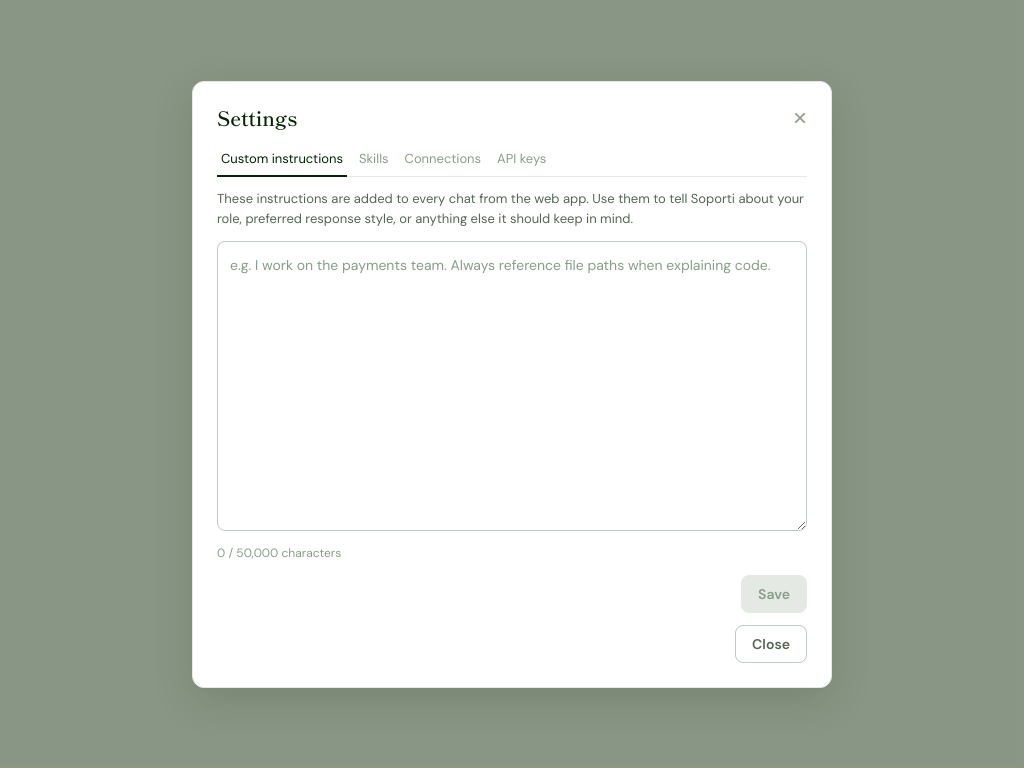
Scenario: SettingsModal › switches to the API keys tab and forwards the selected sources
This screenshot has width=1024, height=768.
Expected: the text box with placeholder "payments team" is shown, x1=217 y1=240 x2=807 y2=530
Click the tab "API keys": (522, 159) x1=493 y1=142 x2=550 y2=176
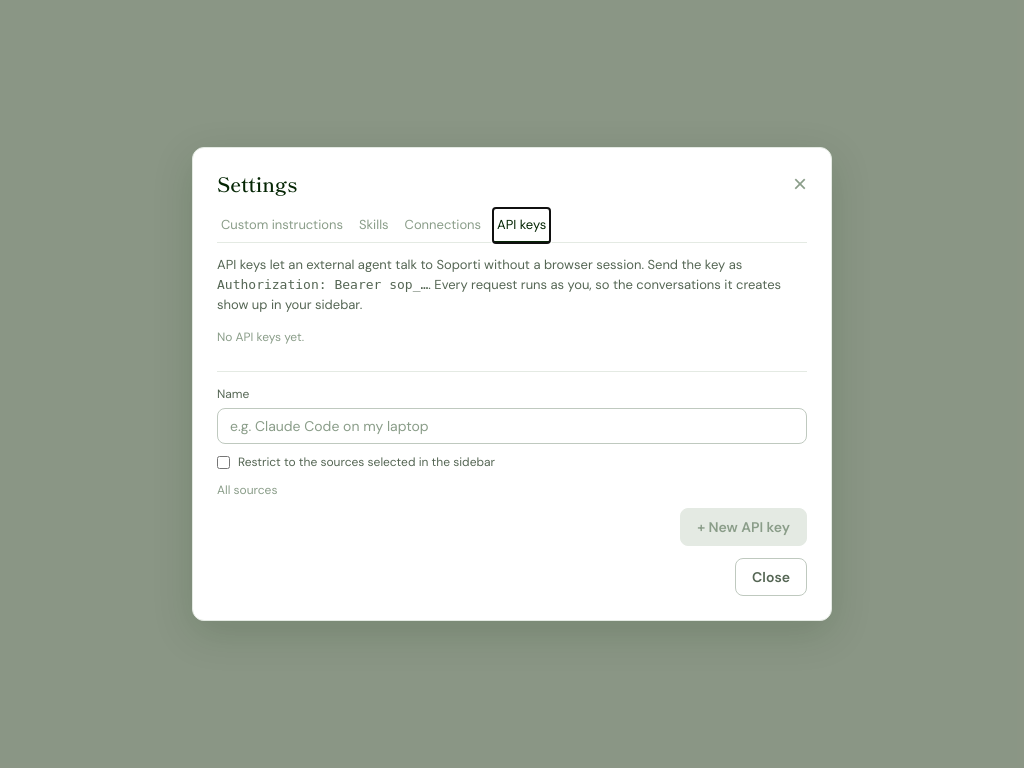
Expected: the text "No API keys yet." is shown, x1=217 y1=329 x2=304 y2=345
Click the checkbox: (224, 462) x1=217 y1=456 x2=230 y2=468
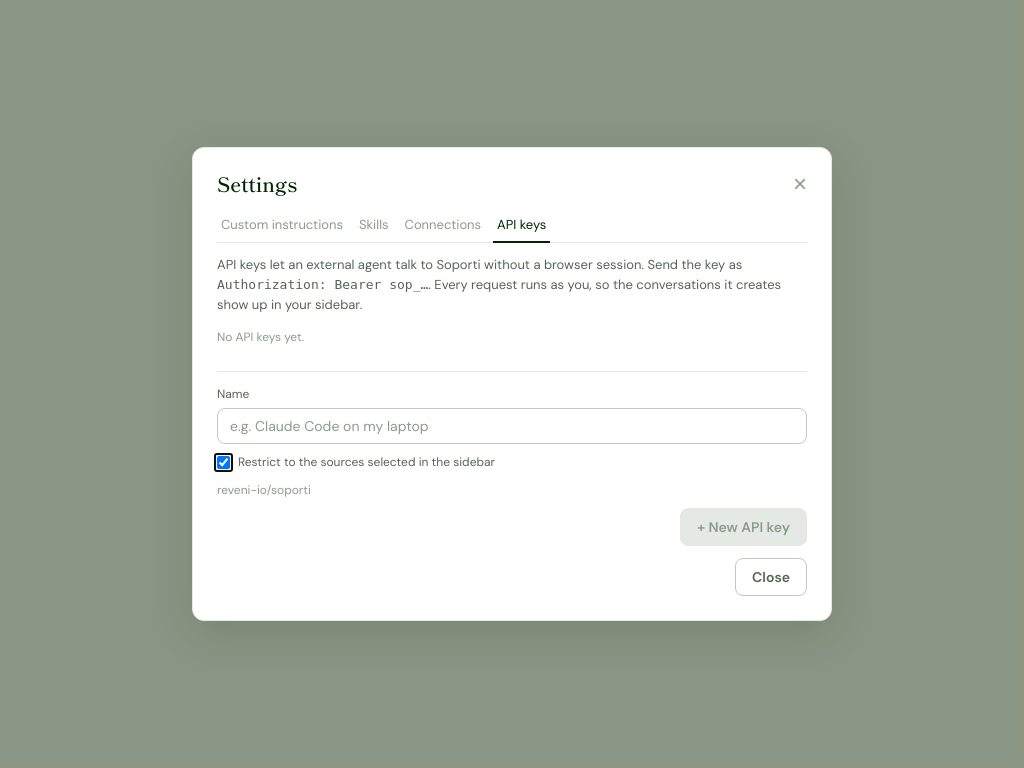
Expected: the text "reveni-io/soporti" is shown, x1=217 y1=482 x2=311 y2=498
